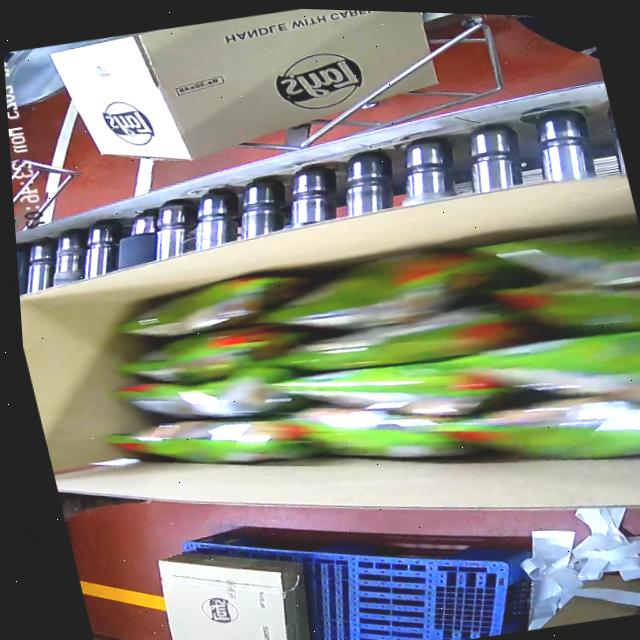YOGURT_HERB: (93, 193, 640, 532)
